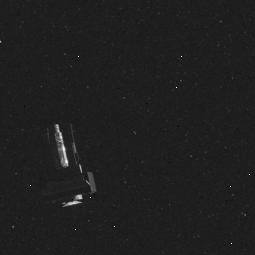soho: (32, 118, 104, 216)
